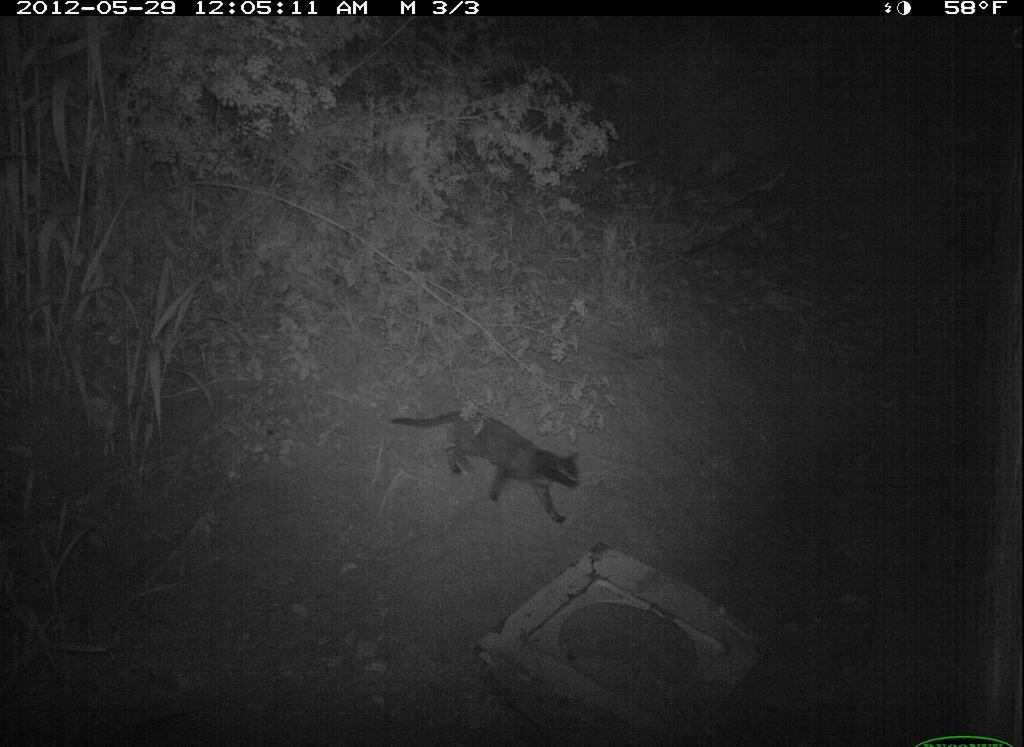cat: (379, 376, 625, 541)
